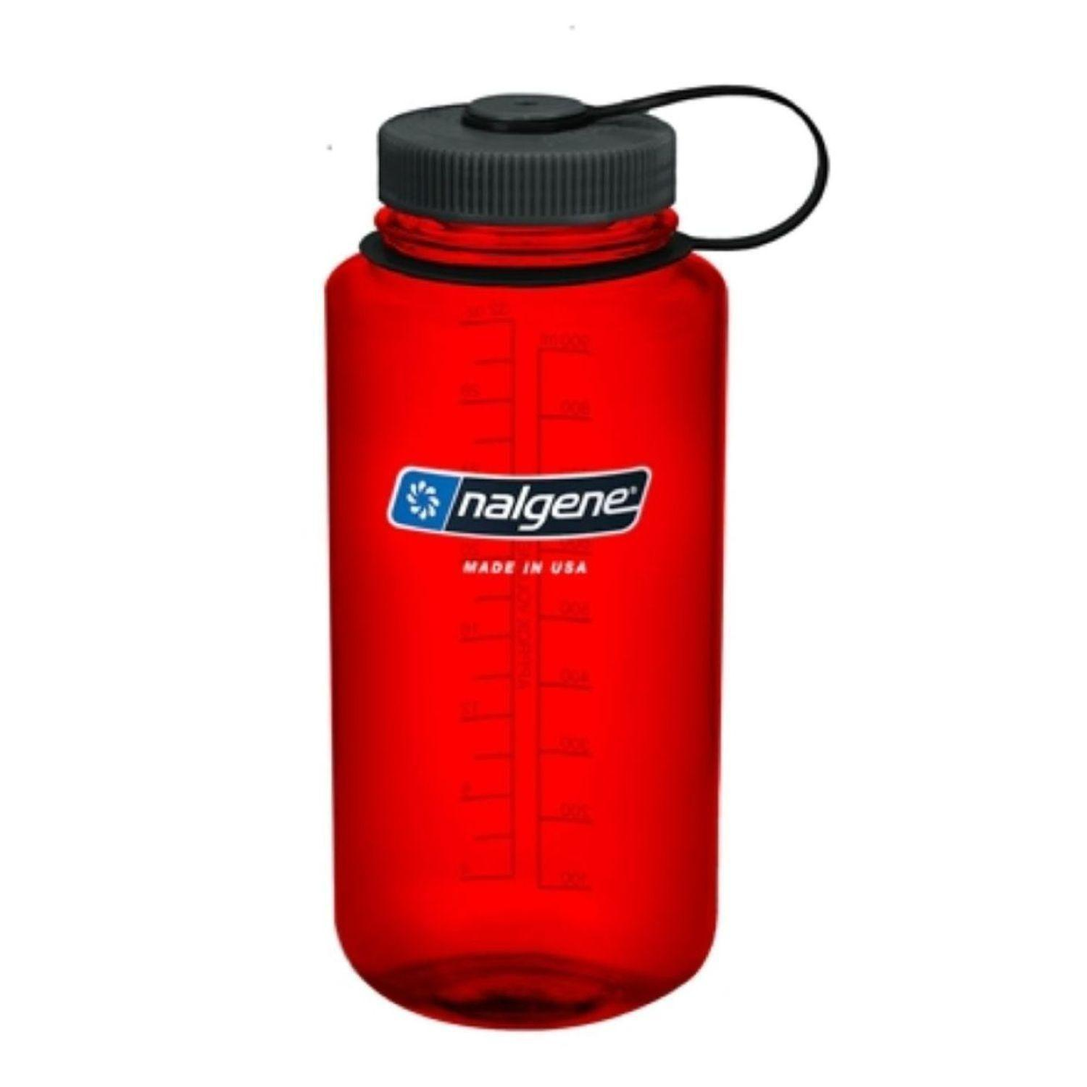gym bottle: (319, 79, 741, 1031)
